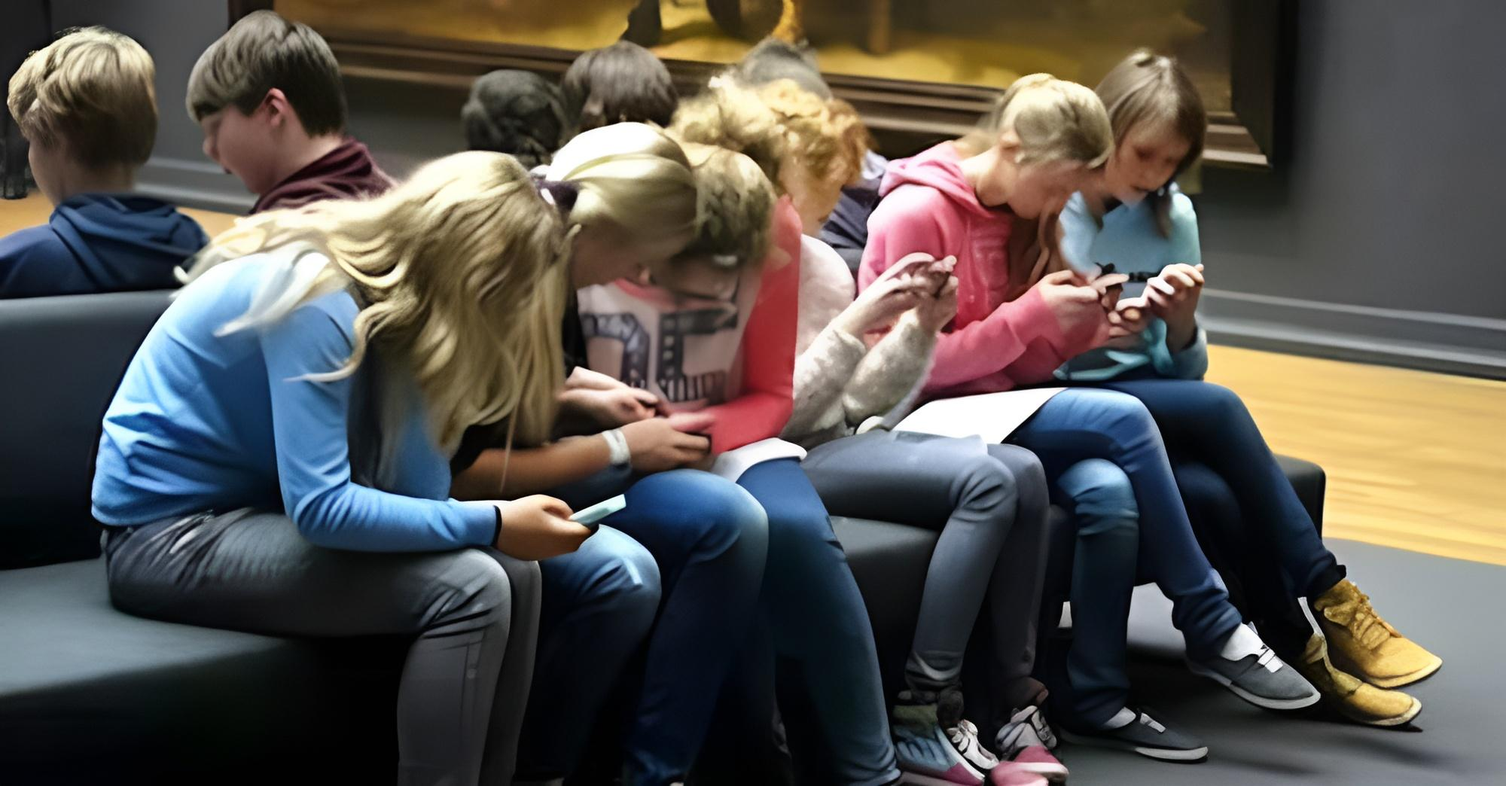phone: (96, 149, 625, 609), (726, 80, 962, 441), (869, 75, 1124, 394), (515, 120, 712, 490), (1070, 45, 1213, 383)
